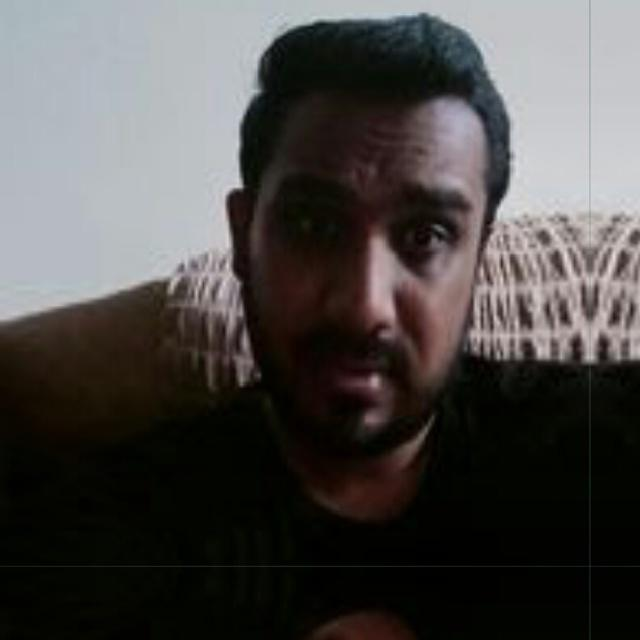Angry: (172, 46, 558, 468)
